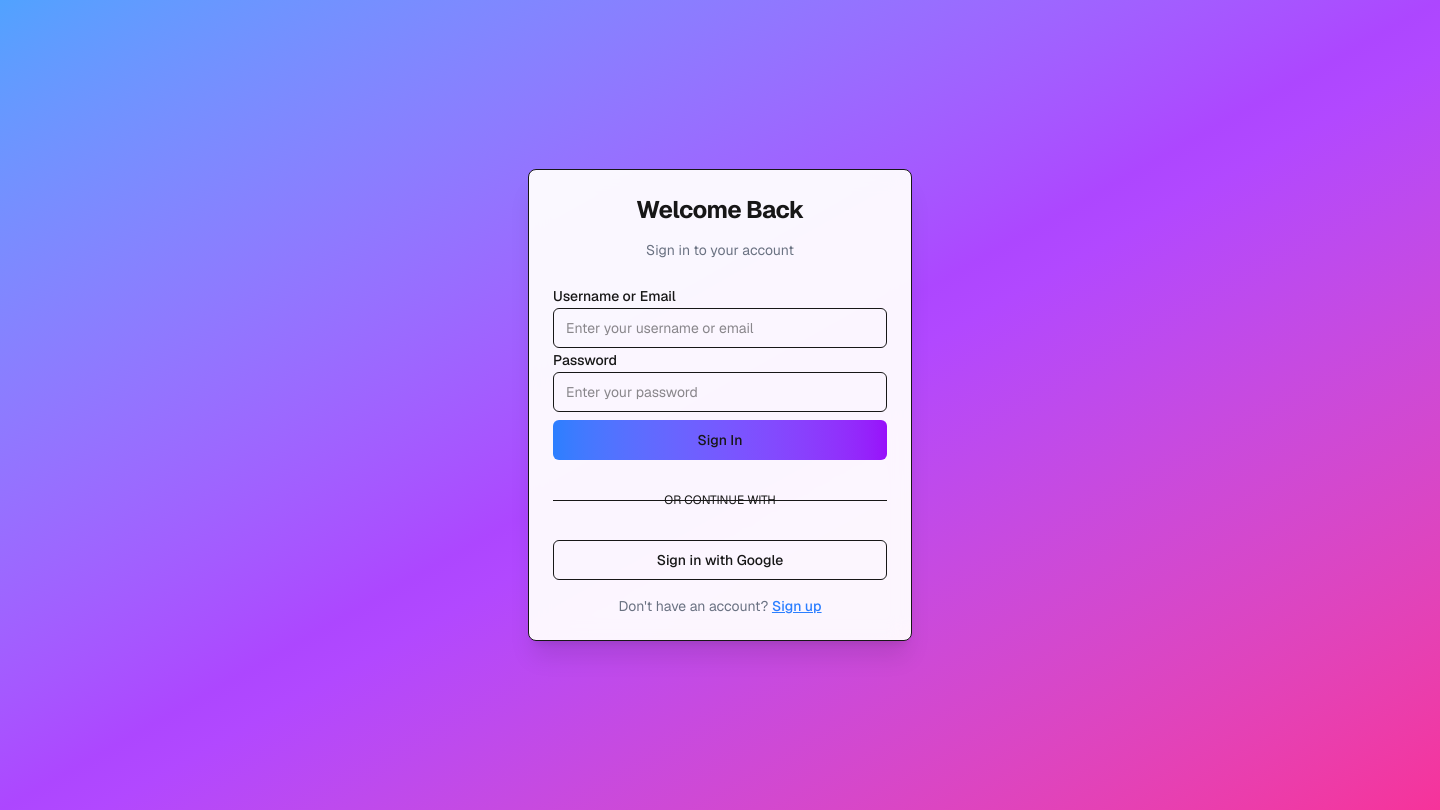
Test: SigninPage › validates required fields
Click the button "Sign In" at (720, 440), box [553, 420, 887, 460]
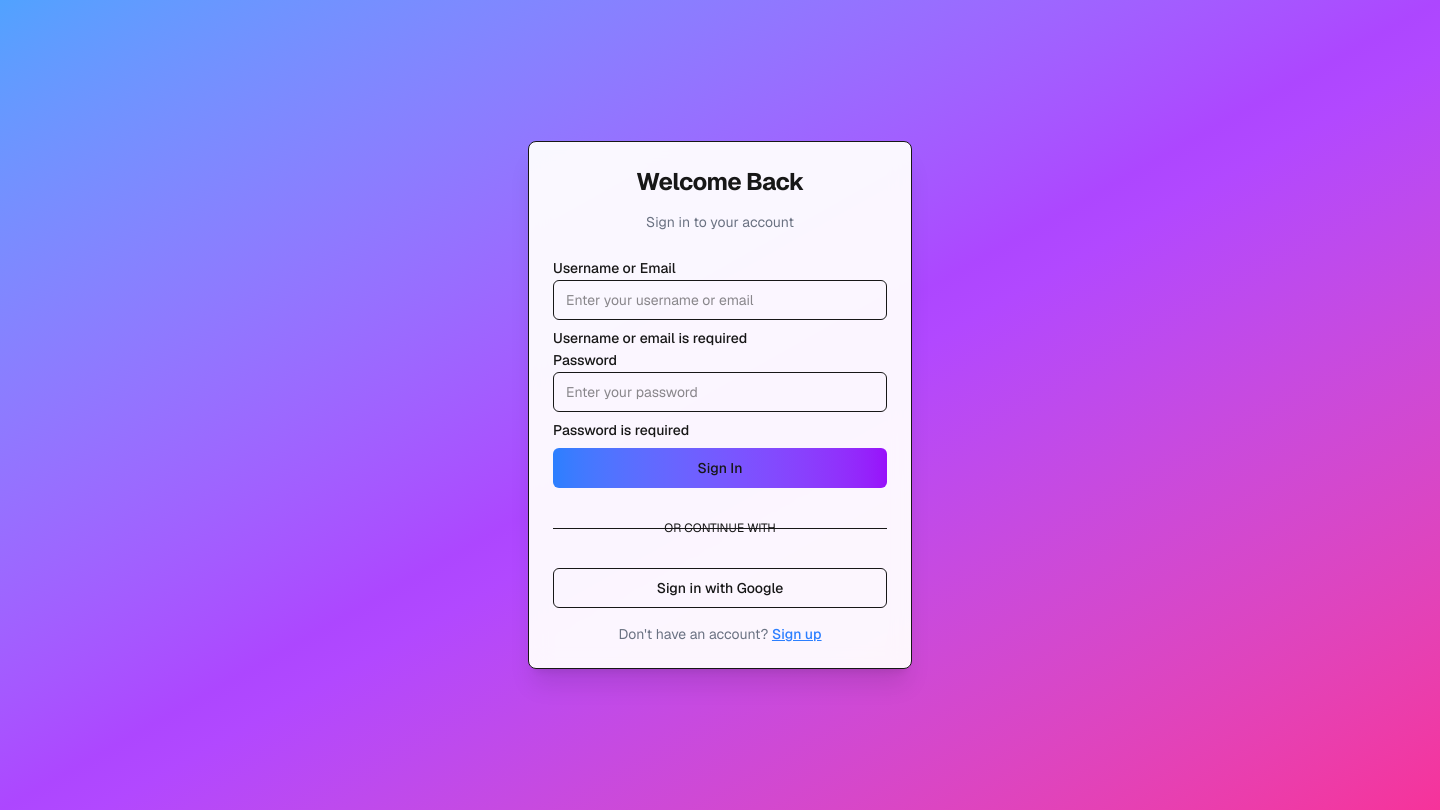
expect the text "Username or email is required" is shown: met, box [553, 329, 747, 347]
expect the text "Password is required" is shown: met, box [553, 421, 689, 439]
